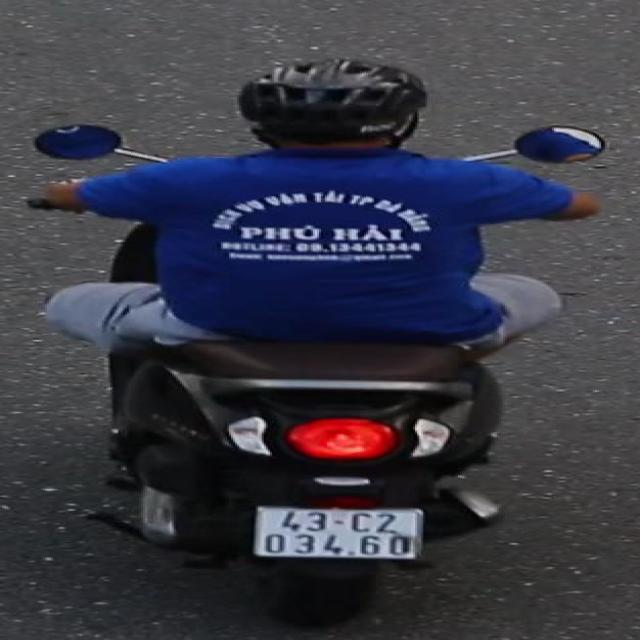LP: (246, 503, 434, 565)
helmet: (225, 49, 440, 168)
